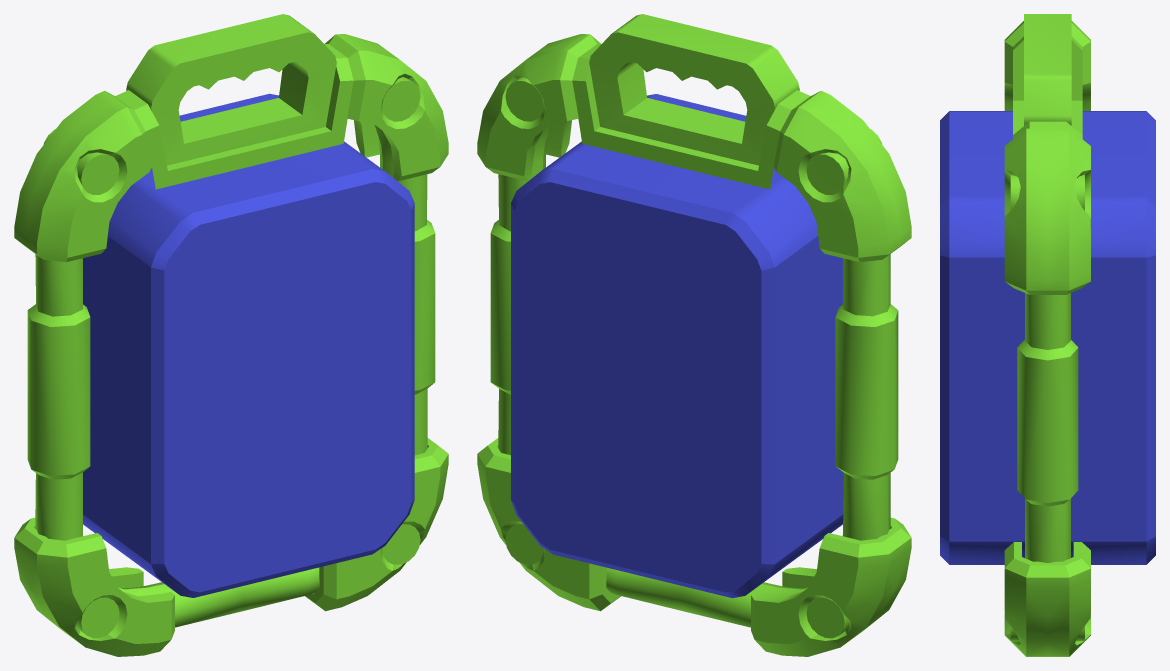
File: obj_consumable_schematic.fbx
3 views of the same model, side by side, from view 1: azimuth 30°, elevation 25°; view 2: azimuth 150°, elevation 25°; view 3: azimuth 270°, elevation 25° (orthographic). The views are drawn at different scales.
Parts seen in each view (by area): view 1: obj_consumable_schematic.001; view 2: obj_consumable_schematic.001; view 3: obj_consumable_schematic.001.
Part boxes in pixels (x1=…): obj_consumable_schematic.001: x1=14, y1=14, x2=448, y2=656; obj_consumable_schematic.001: x1=477, y1=14, x2=911, y2=656; obj_consumable_schematic.001: x1=940, y1=14, x2=1155, y2=656.
Bounding box in the file's own units: 2.11 × 2.86 × 1.
